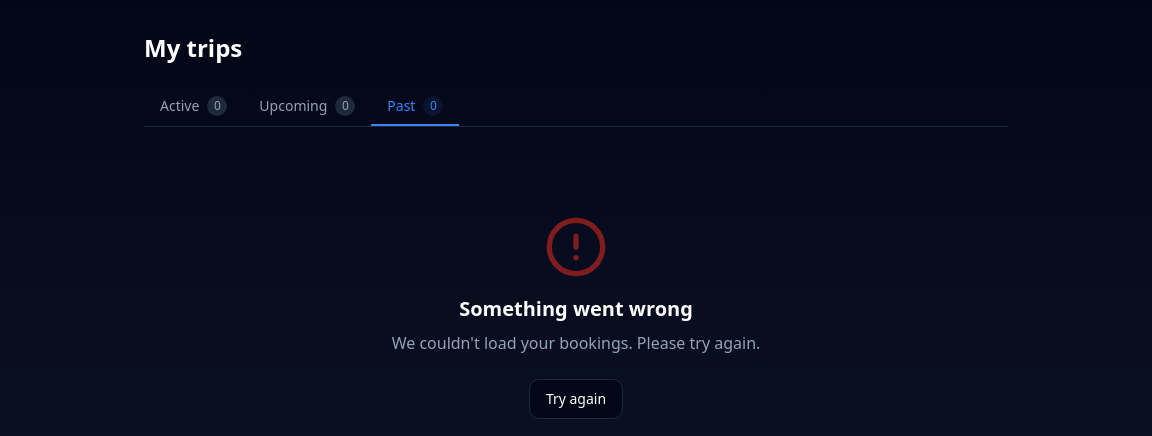
it: MyTripsPage › error state › retries when retry button is clicked
Expected: the heading "Something went wrong" is shown, [459,295,693,323]
Click the button "Try again": (576, 399) [529,379,623,419]
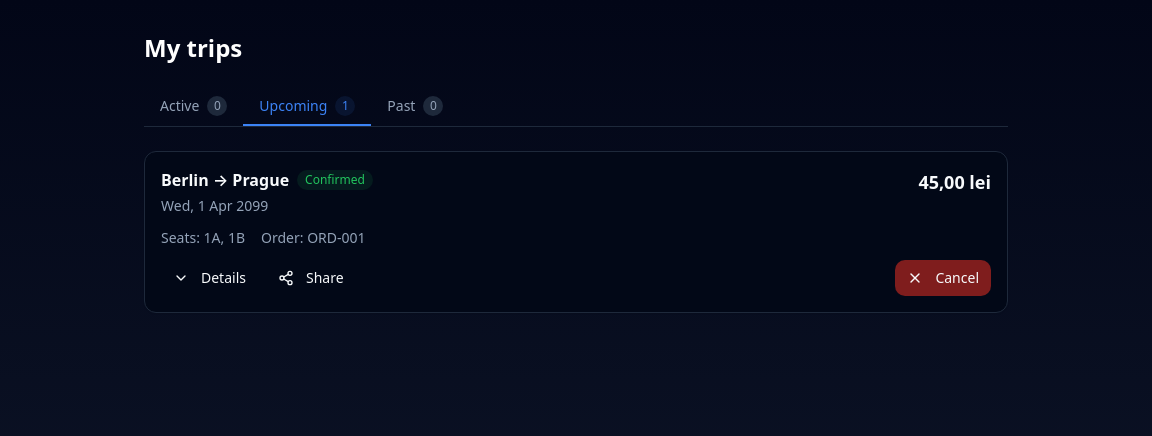
Result: the heading "Berlin → Prague" is shown at [161,168,289,192]
